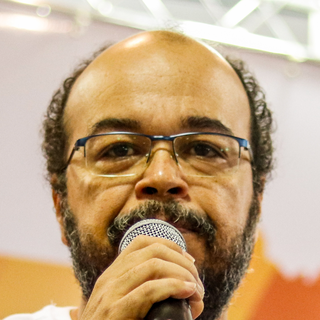eye: (180, 138, 232, 164), (95, 141, 145, 162)
